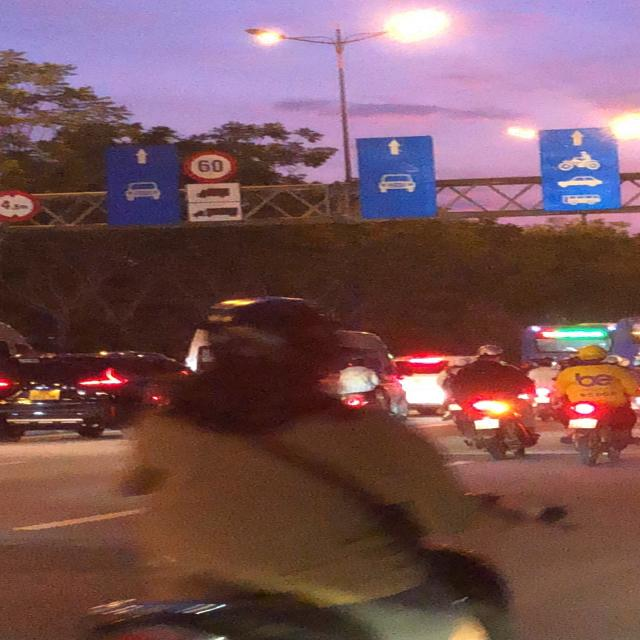Bien bao han che chieu cao: (0, 184, 44, 227)
Bien bao toc do toi da cho phep: (178, 148, 240, 186)
